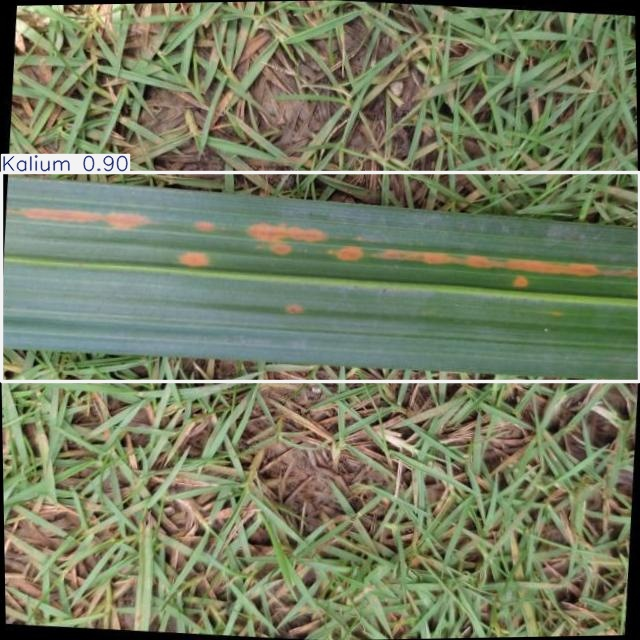Kalium: (2, 173, 639, 382)
